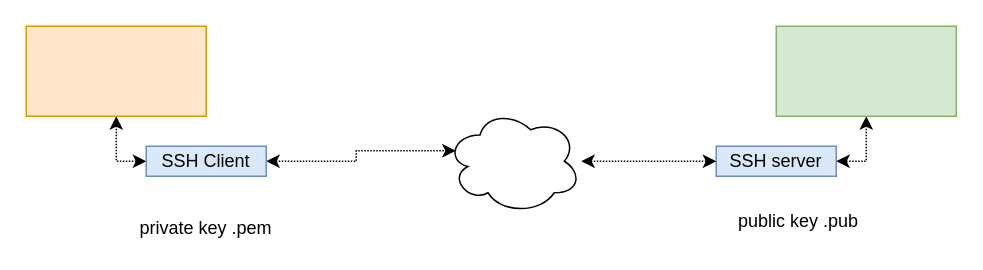
This 983x270 diagram has some shape labels left out. Here are the shapes that lost their labels. From the top down, the centre of each, then its label:
[115,70]: My Computer
[865,70]: Remote Server (Ubuntu)
